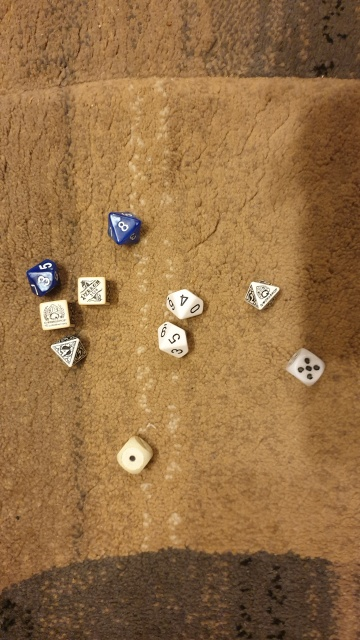d10-3: (23, 260, 65, 296)
d10-4: (160, 287, 209, 318)
d10-5: (152, 318, 192, 364)
d10-8: (102, 204, 145, 251)
d6-1: (114, 433, 154, 478)
d6-5: (282, 343, 328, 389)
d6p-1: (74, 274, 112, 310)
d6p-6: (37, 298, 75, 333)
d8p-4: (48, 333, 91, 374)
d8p-8: (241, 278, 283, 313)
